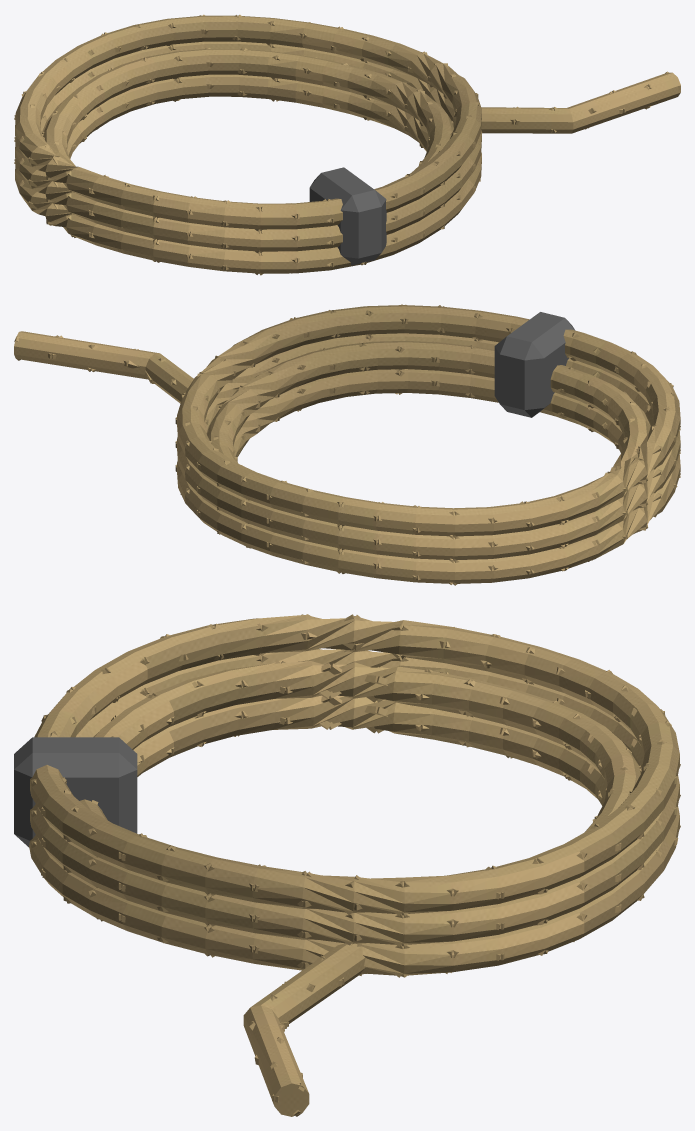
File: corda.glb
The picture shows the model from 3 angles, top to bottom: view 1: azimuth 30°, elevation 25°; view 2: azimuth 150°, elevation 25°; view 3: azimuth 270°, elevation 25°; orthographic projection. The views are drawn at different scales.
Visible parts, largest first — view 1: corda_corda, corda_fita_preta; view 2: corda_corda, corda_fita_preta; view 3: corda_corda, corda_fita_preta.
Boxes of the visible parts, x1=… form: corda_corda: x1=14, y1=14, x2=680, y2=275; corda_fita_preta: x1=309, y1=167, x2=386, y2=265; corda_corda: x1=14, y1=304, x2=680, y2=585; corda_fita_preta: x1=494, y1=312, x2=575, y2=417; corda_corda: x1=29, y1=614, x2=680, y2=1116; corda_fita_preta: x1=14, y1=737, x2=137, y2=847.
Bounding box in the file's own units: 0.3173 × 0.0393 × 0.2161.
Materials: 2 (1 with a texture image).
